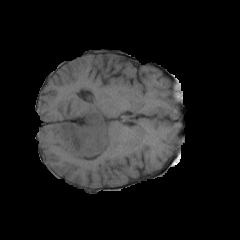glioma: (60, 92, 110, 161)
